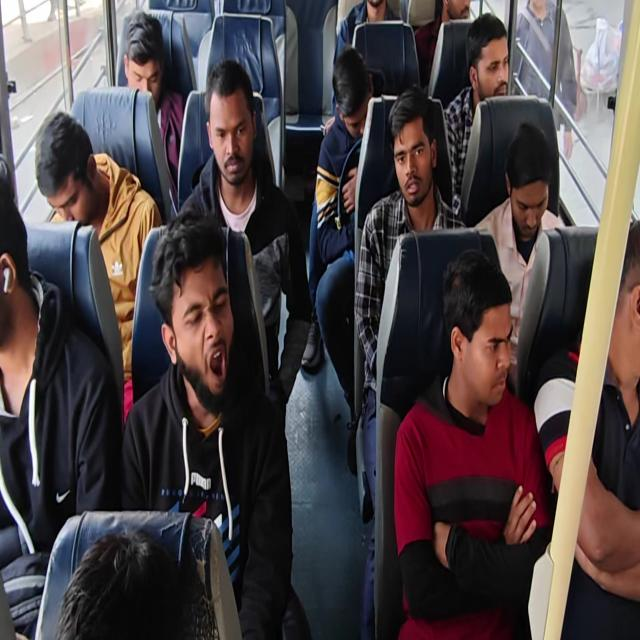person: (1, 2, 638, 638), (120, 207, 295, 638), (392, 248, 554, 638), (353, 85, 467, 637), (0, 158, 123, 638), (178, 58, 313, 416), (533, 217, 639, 638), (34, 110, 162, 428), (314, 44, 376, 473), (473, 121, 565, 394), (55, 528, 191, 638), (443, 12, 509, 214), (120, 9, 184, 195), (514, 0, 580, 160), (324, 0, 401, 132), (414, 0, 471, 90)
